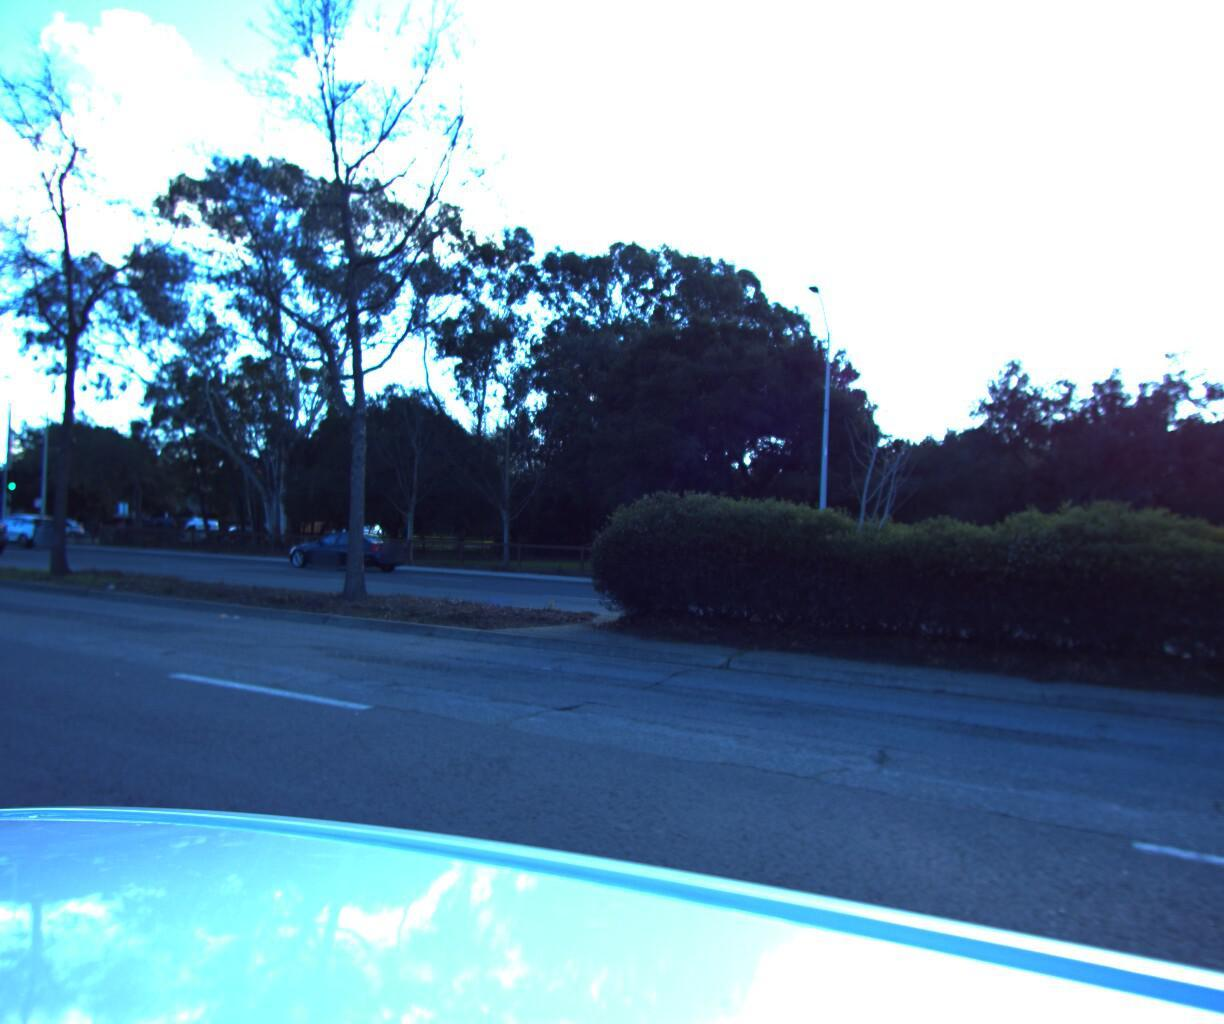car: (279, 520, 413, 569), (0, 506, 72, 545), (174, 513, 230, 536), (0, 501, 15, 554)
